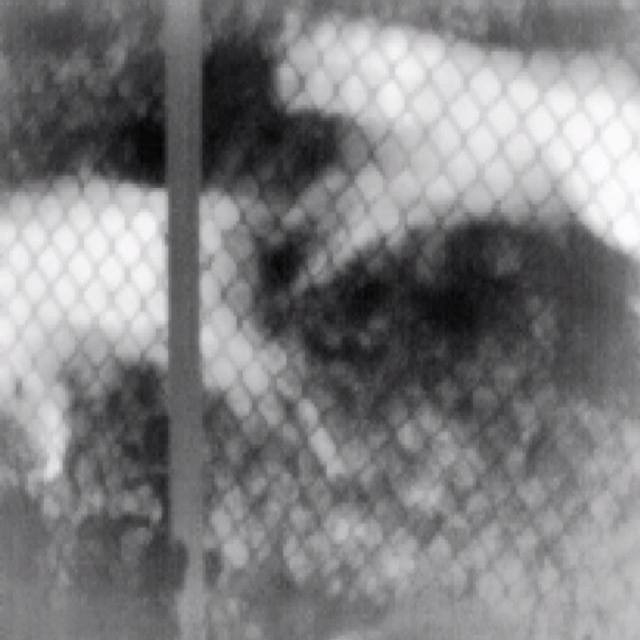cheetah: (268, 7, 639, 309), (0, 177, 335, 491)
